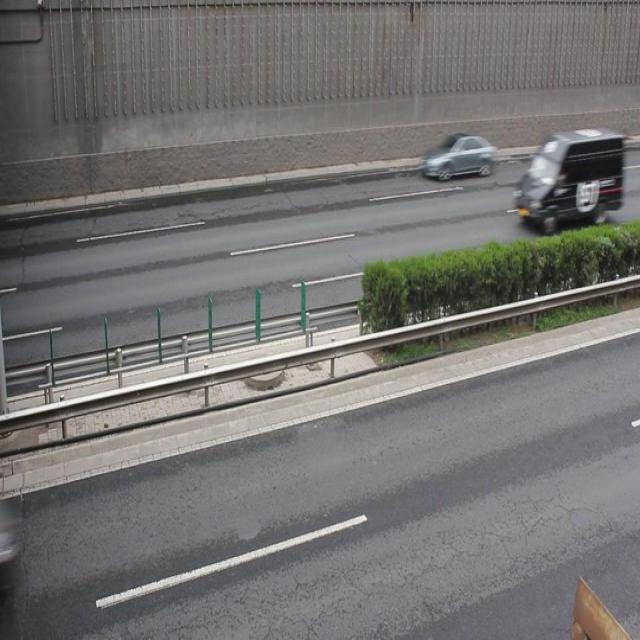car: (419, 132, 495, 178)
truck: (512, 127, 621, 230)
